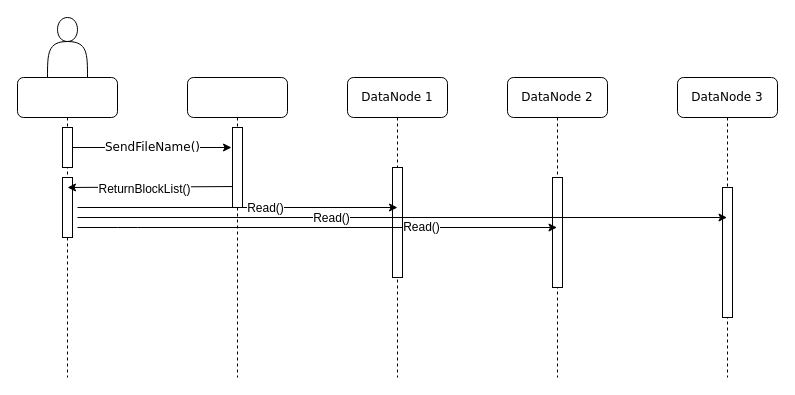
Image size: 795x395. Some labels were removed from this diagram. The box of each missing label's shape, as (x1, y1, x2, y2) in pixels:
Client: (16, 76, 118, 378)
NameNode: (186, 76, 288, 378)
